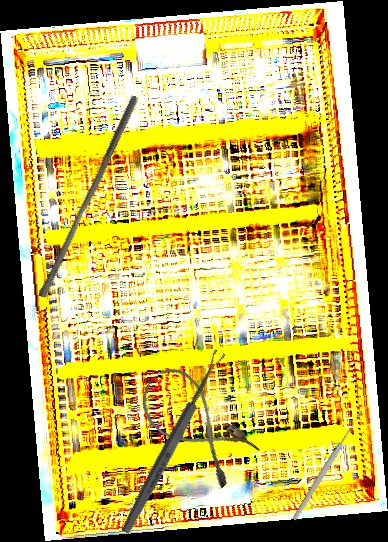Cannula: (129, 359, 263, 492)
Pusher: (37, 91, 140, 302)
Surgical Spoon: (118, 348, 228, 536), (291, 409, 365, 522)
